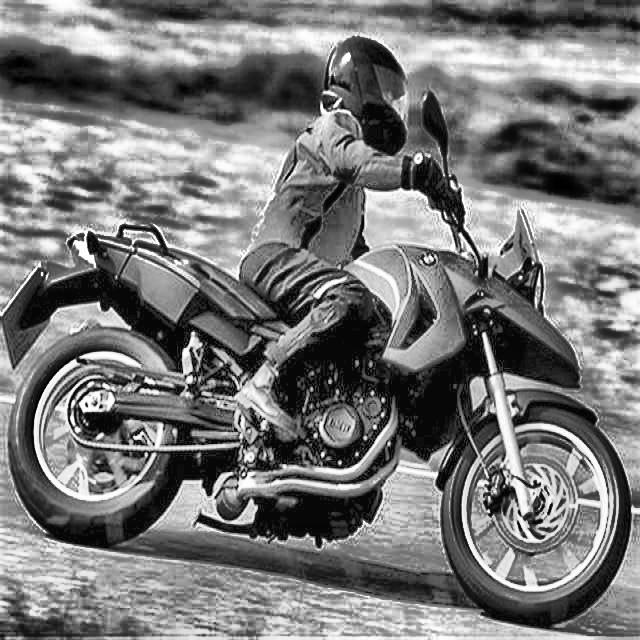Helmet: (319, 30, 412, 156)
